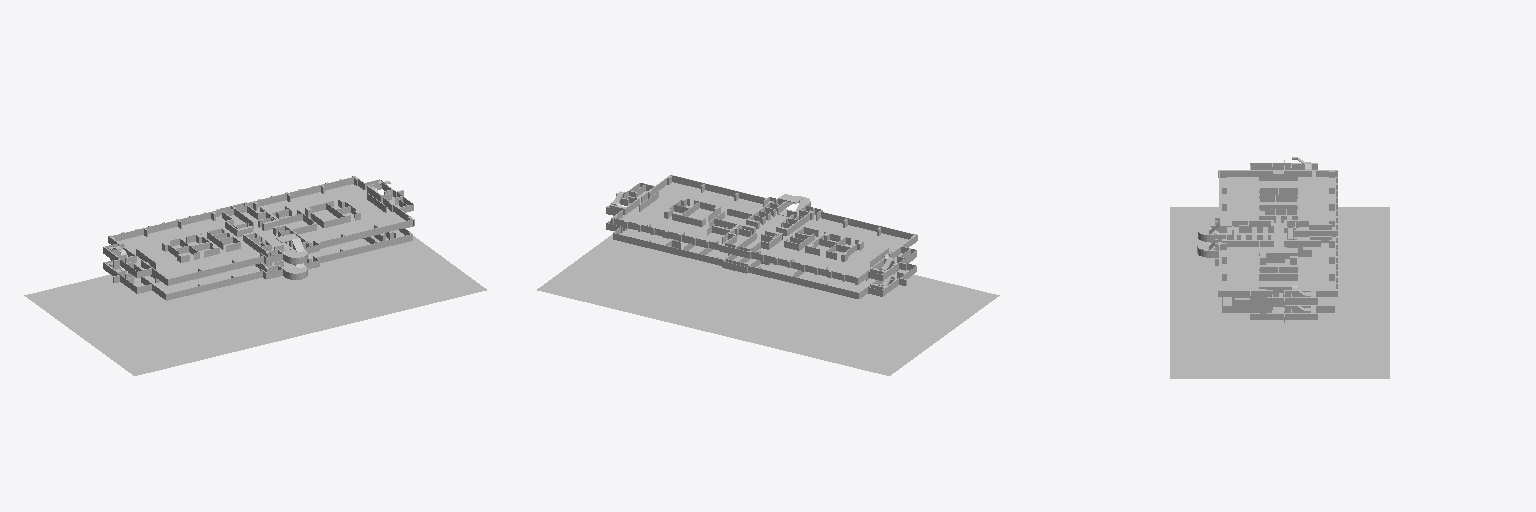
Rendered from quarto_consertado_escada_central.obj.
3 views of the same model, side by side, from view 1: azimuth 30°, elevation 25°; view 2: azimuth 150°, elevation 25°; view 3: azimuth 270°, elevation 25° (orthographic).
Bounding box in the file's own units: 78.33 × 15.62 × 42.4.